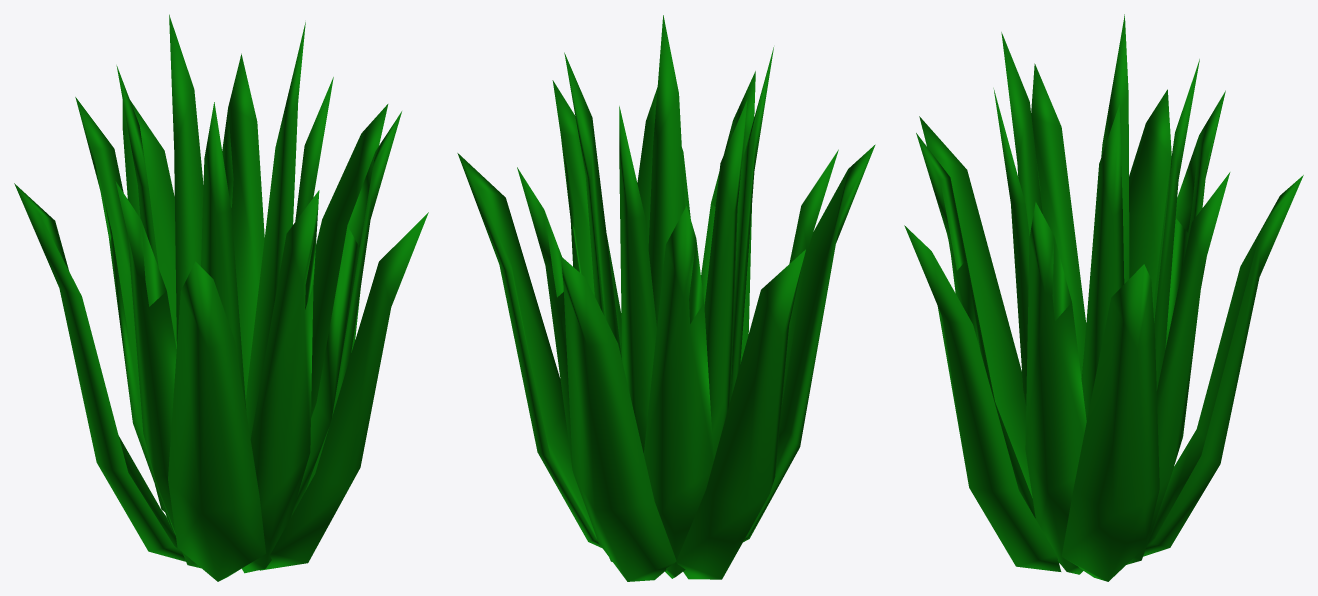
Rendered from SM_Aloe_001_LOD3.fbx.
3 views of the same model, side by side, from view 1: azimuth 30°, elevation 25°; view 2: azimuth 150°, elevation 25°; view 3: azimuth 270°, elevation 25° (orthographic).
Visible parts, largest first — view 1: Aloe; view 2: Aloe; view 3: Aloe.
Boxes of the visible parts, <box> form: Aloe: <box>14,14,428,581</box>; Aloe: <box>457,15,875,581</box>; Aloe: <box>904,14,1303,581</box>.
Bounding box in the file's own units: 59.34 × 79.81 × 57.32.
